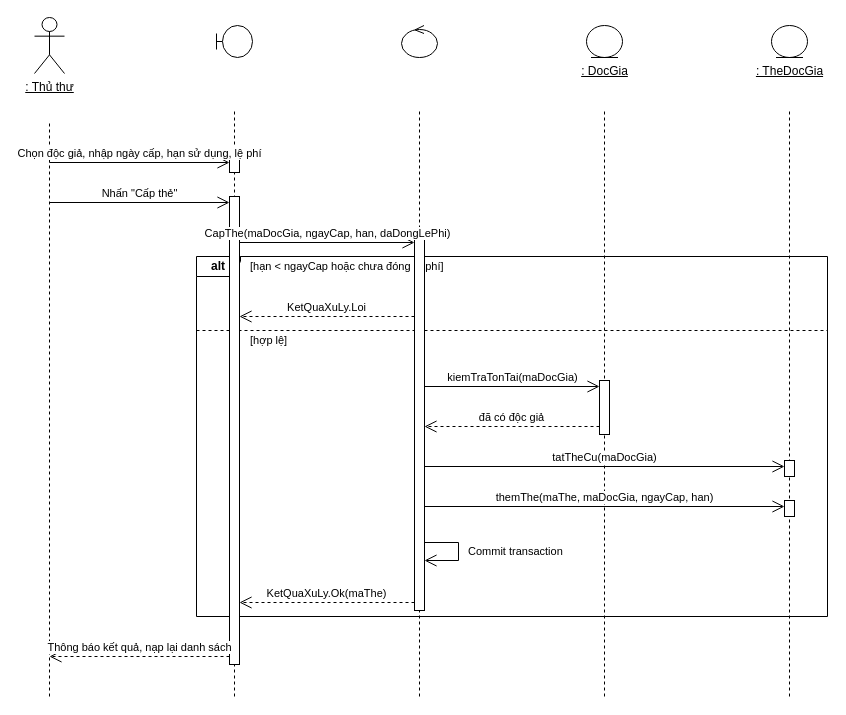
This 846x715 diagram has some shape labels left out. The shapes that lost their labels are listed below. From the top down, each one's centre as x and y in pixels, then its label:
At [234,41]: ": FrmDocGia".
At [419,41]: ": DocGiaService".
